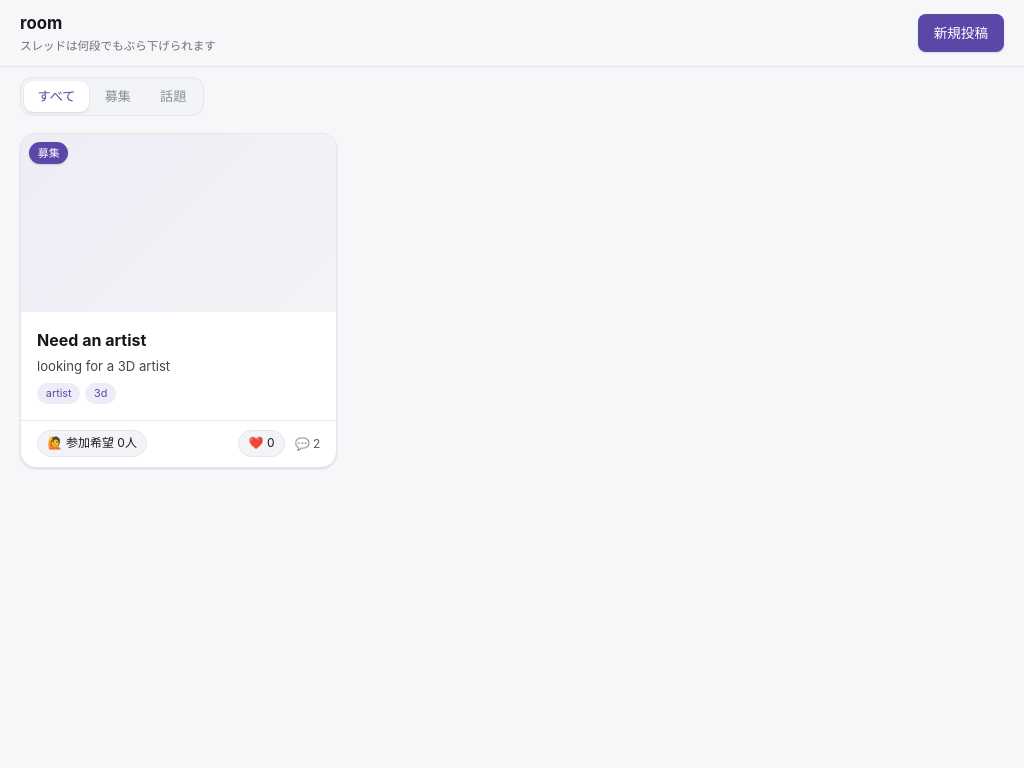
Scenario: ProjectBoard (recursive rendering) › clicking a recruitment card opens its thread detail with a back button
What coordinates should you click on to do the following:
click the tab "募集"
I would click on:
 (118, 96)
Its box is [91,81,144,112].
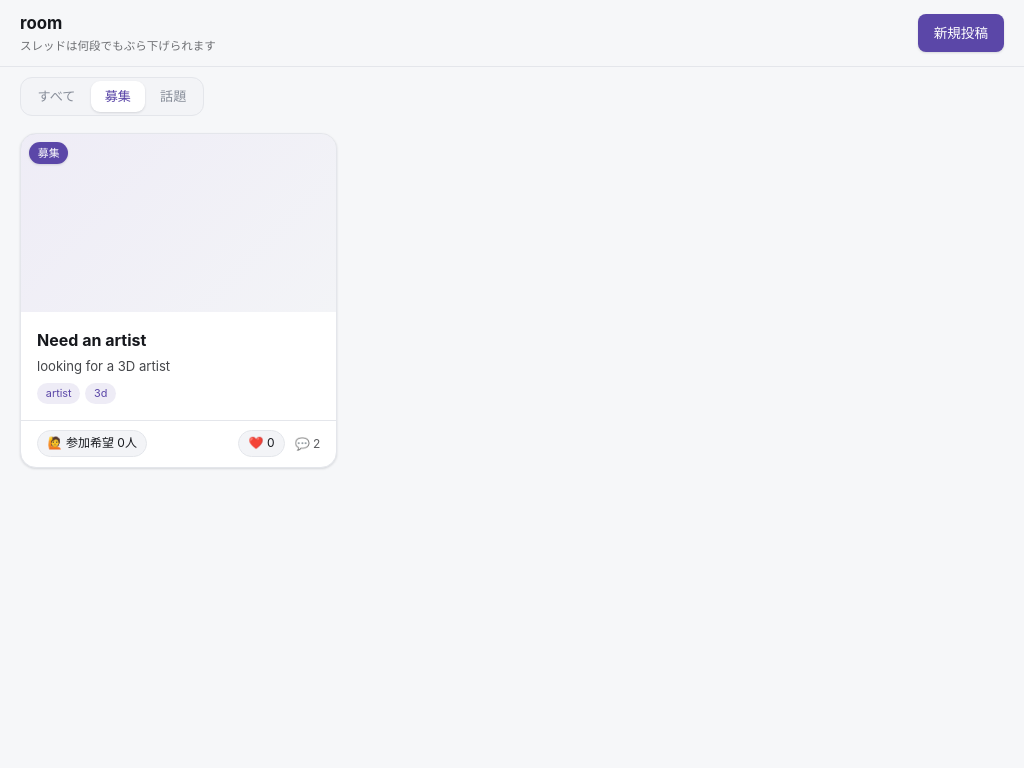
What coordinates should you click on to do the following:
click the heading "Need an artist"
I would click on:
 (92, 340)
Its box is [37,330,146,350].
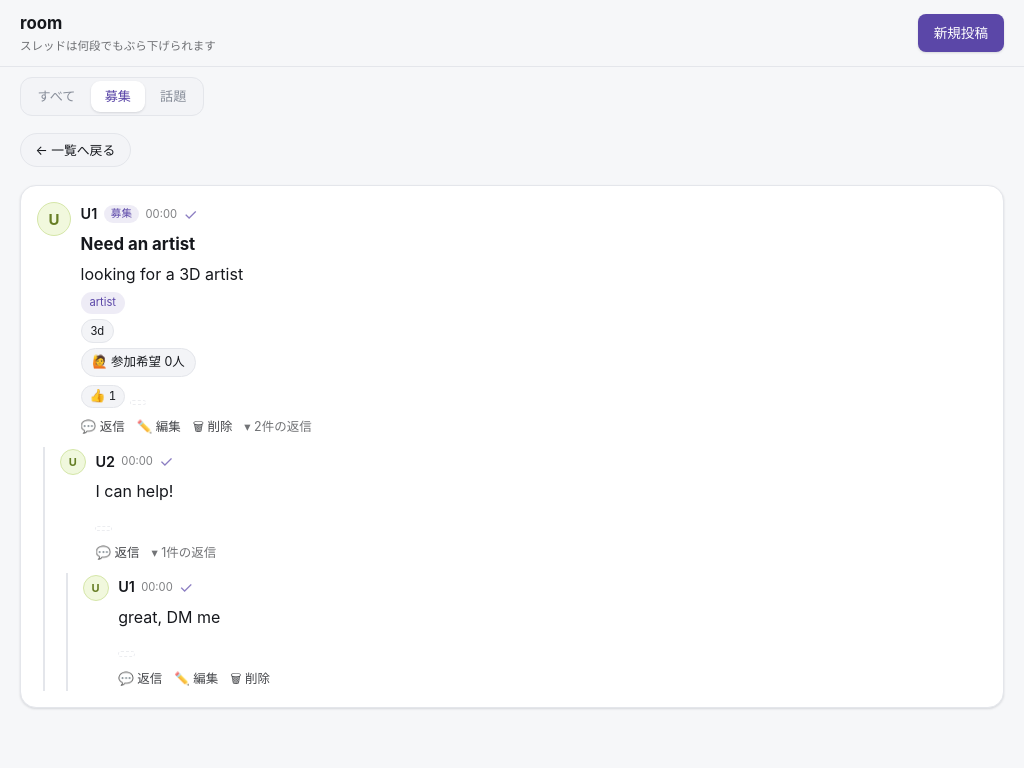
Expected: the text "I can help!" is shown, [95,481,174,501]
Expected: the text "great, DM me" is shown, [118,607,220,627]
Expected: the button "← 一覧へ戻る" is shown, [20,134,131,168]
